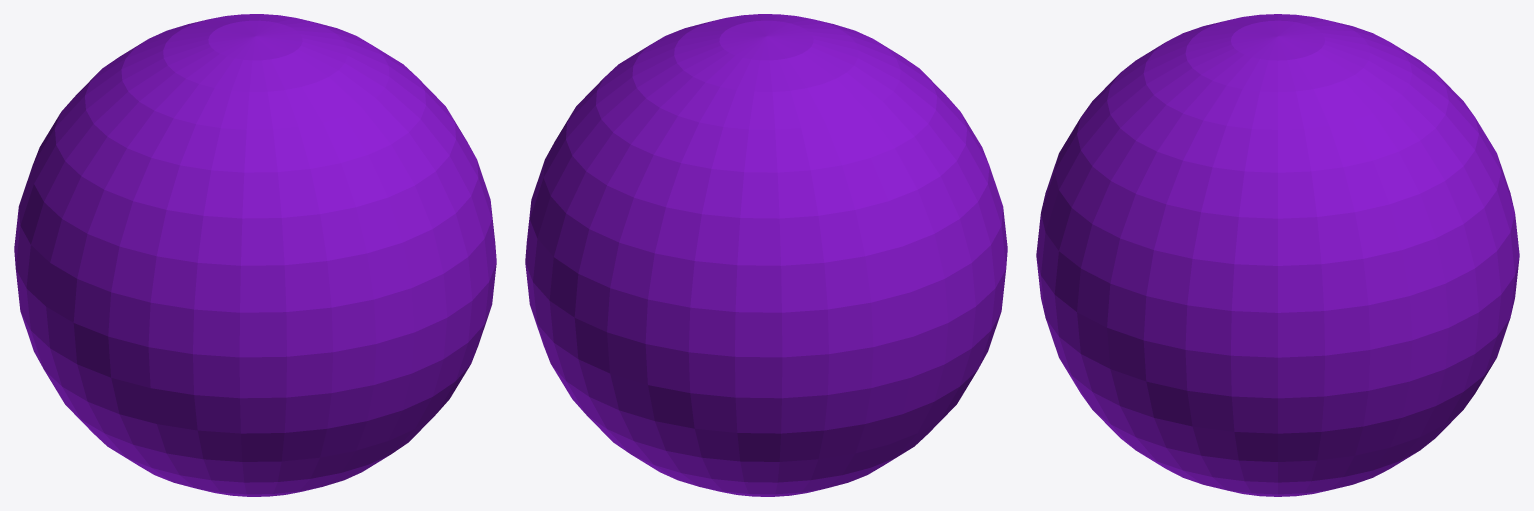
3 views of the same model, side by side, from view 1: azimuth 30°, elevation 25°; view 2: azimuth 150°, elevation 25°; view 3: azimuth 270°, elevation 25° (orthographic).
Visible parts, largest first — view 1: Sphere; view 2: Sphere; view 3: Sphere.
Boxes of the visible parts, <box> form: Sphere: <box>14,14,496,496</box>; Sphere: <box>525,14,1007,496</box>; Sphere: <box>1036,14,1519,496</box>.
Bounding box in the file's own units: 20 × 20 × 20.
